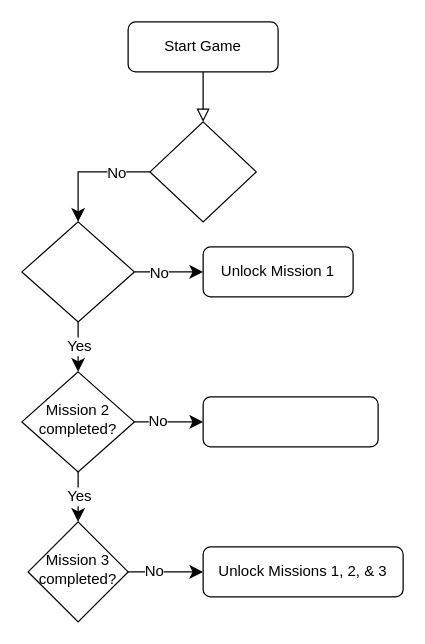
Image size: 425x644. Some labels were removed from this diagram. The shapes that lost their labels are listed below. From the top down, each one's centre as x and y in pixels, then its label:
(202,171): New Game?
(77,271): Mission 1 completed?
(290,421): Unlock Missions 1 & 2
